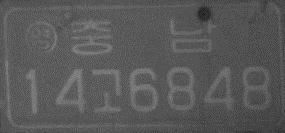1: (17, 68, 48, 115)
4: (54, 68, 88, 114), (203, 65, 237, 111)
6: (128, 67, 159, 113)
8: (165, 65, 197, 112), (241, 65, 272, 112)
고: (90, 68, 123, 113)
영: (24, 19, 58, 56)
충남_D: (70, 18, 215, 58)
